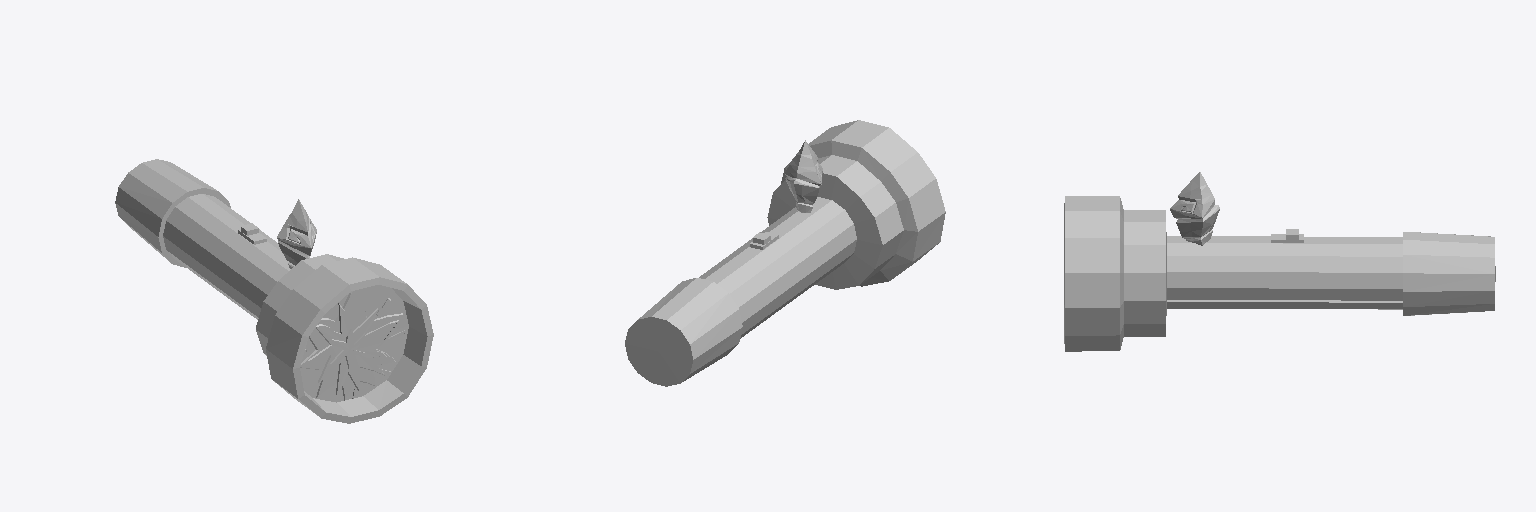
The model's file is Lanterna.obj.
3 renders of one model, left to right at view 1: azimuth 30°, elevation 25°; view 2: azimuth 150°, elevation 25°; view 3: azimuth 270°, elevation 25°, orthographic.
Visible parts, largest first — view 1: Flashlight.1, cmn_prop_crystal_shard_mesh.1; view 2: Flashlight.1, cmn_prop_crystal_shard_mesh.1; view 3: Flashlight.1, cmn_prop_crystal_shard_mesh.1.
Boxes of the visible parts, <box> form: Flashlight.1: <box>115,159,433,423</box>; cmn_prop_crystal_shard_mesh.1: <box>277,199,316,268</box>; Flashlight.1: <box>625,120,945,386</box>; cmn_prop_crystal_shard_mesh.1: <box>784,140,822,212</box>; Flashlight.1: <box>1064,196,1495,351</box>; cmn_prop_crystal_shard_mesh.1: <box>1170,172,1219,245</box>.
Size of the model in its own units: 0.0337 by 0.0393 by 0.0893.